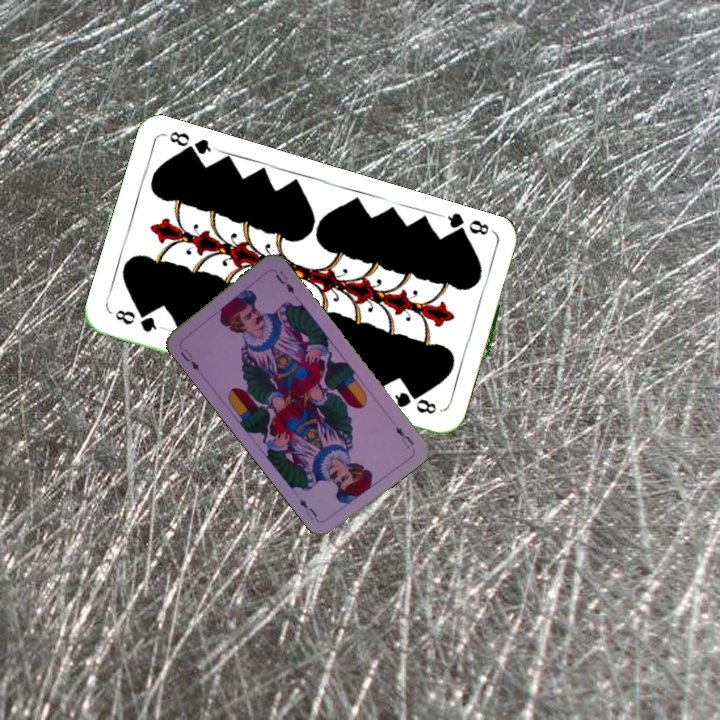EU: (176, 344, 202, 373), (391, 422, 416, 452)
G8: (440, 209, 498, 242), (111, 305, 166, 335)
